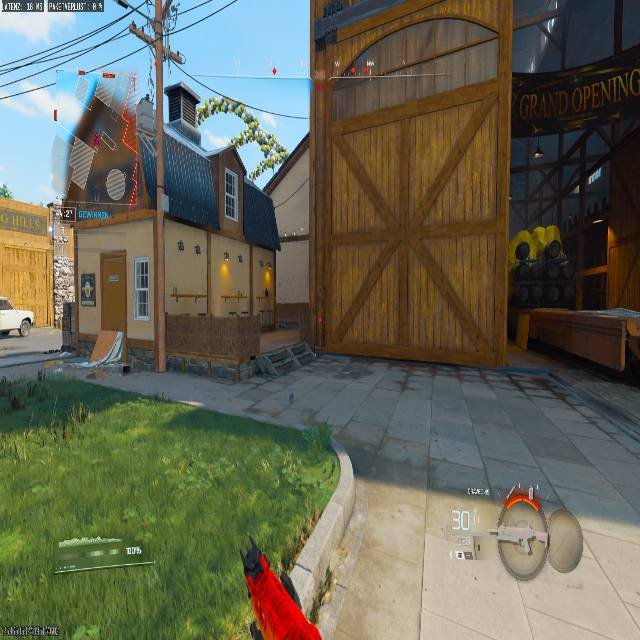head: (514, 242, 530, 262)
